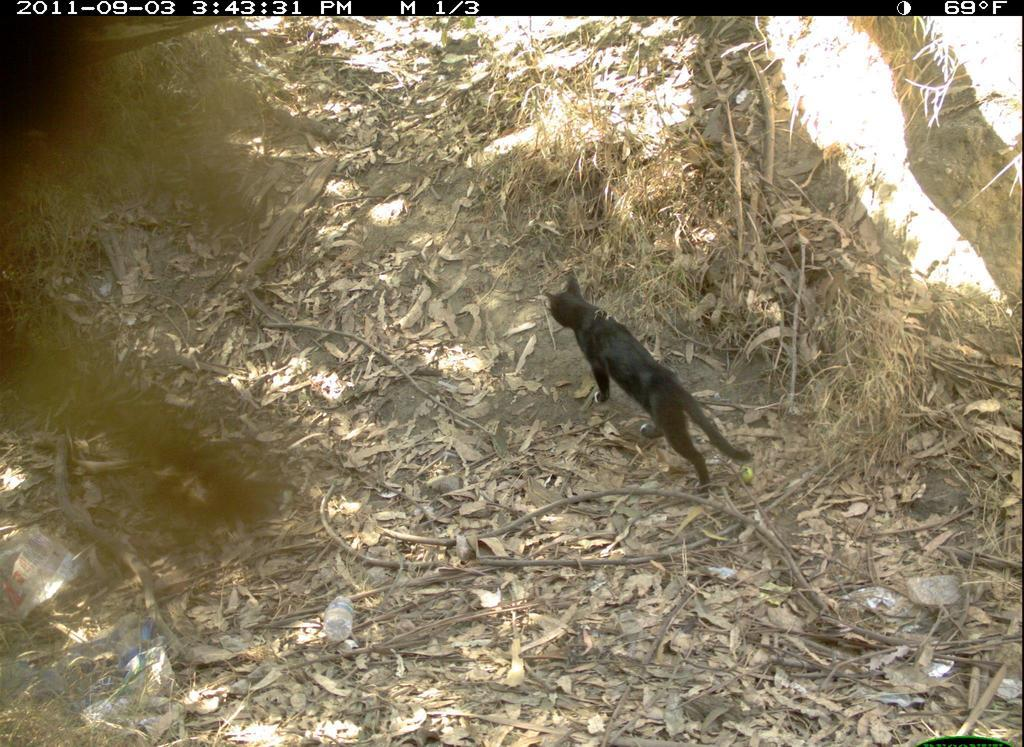cat: (537, 255, 765, 492)
